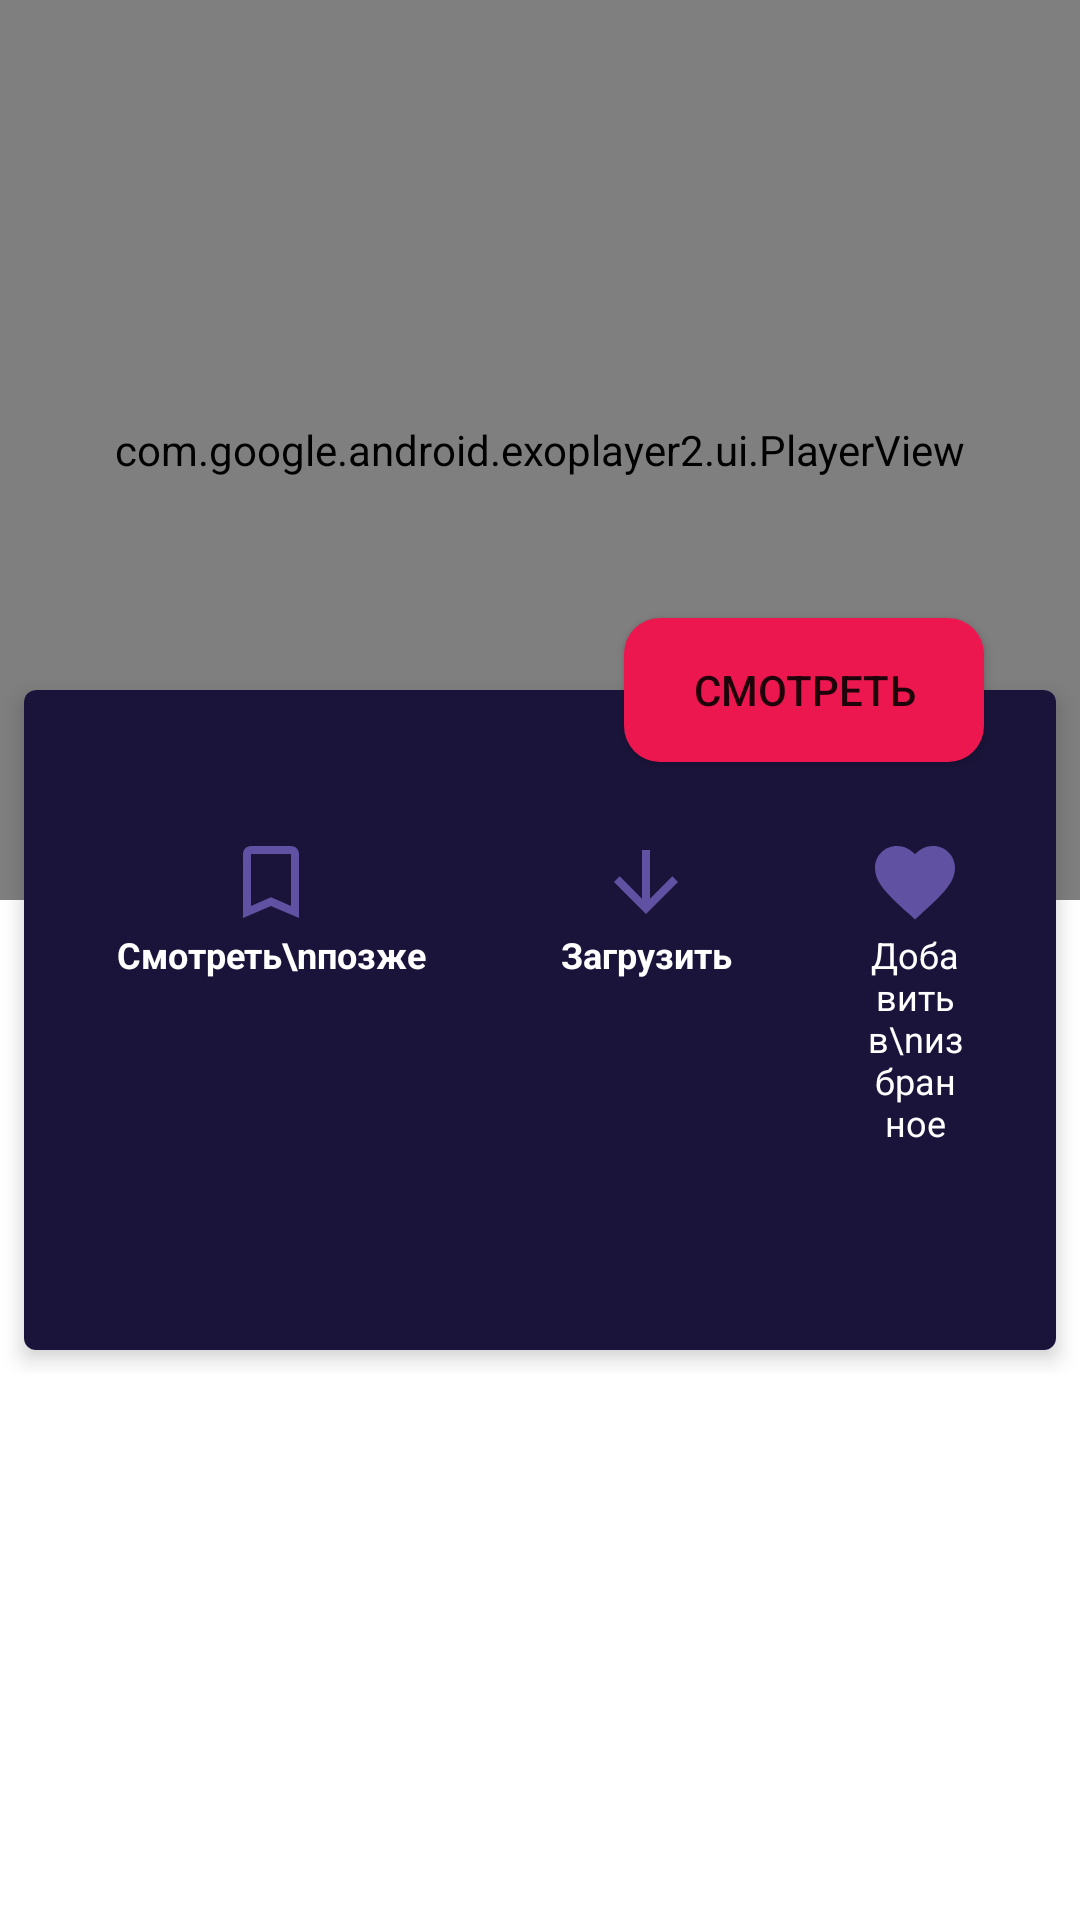

Icons on this 1080×1920 Android screen, each with its box as (x1, y1, x2, y2):
arrow downward: (614, 850, 678, 914)
bookmark border: (243, 846, 299, 918)
favorite: (875, 846, 955, 919)
